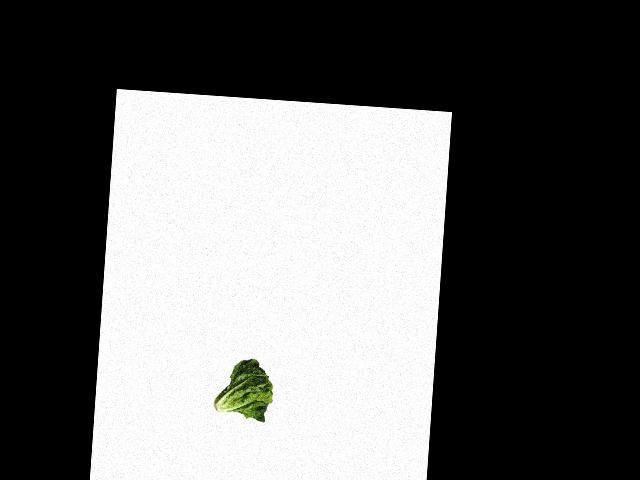lettuce: (209, 355, 277, 424)
